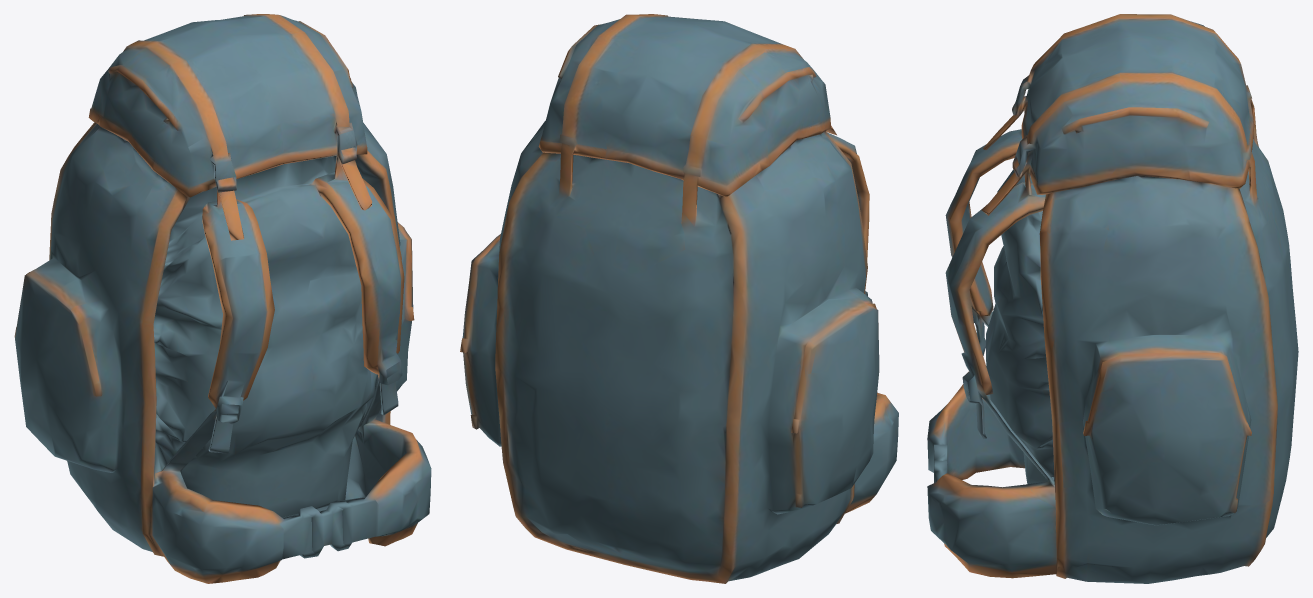
The model's file is wing-bag.glb.
3 renders of one model, left to right at view 1: azimuth 30°, elevation 25°; view 2: azimuth 150°, elevation 25°; view 3: azimuth 270°, elevation 25°, orthographic. The views are drawn at different scales.
Parts seen in each view (by area): view 1: tripo_node_8423fe15-2c0c-47cd-8bb1-74ffea056b42; view 2: tripo_node_8423fe15-2c0c-47cd-8bb1-74ffea056b42; view 3: tripo_node_8423fe15-2c0c-47cd-8bb1-74ffea056b42.
Part boxes in pixels (<box>): tripo_node_8423fe15-2c0c-47cd-8bb1-74ffea056b42: <box>14,14,431,583</box>; tripo_node_8423fe15-2c0c-47cd-8bb1-74ffea056b42: <box>460,14,898,583</box>; tripo_node_8423fe15-2c0c-47cd-8bb1-74ffea056b42: <box>927,14,1298,583</box>.
Size of the model in its own units: 0.7825 by 1 by 0.6748.
Materials: 1 (1 with a texture image).
